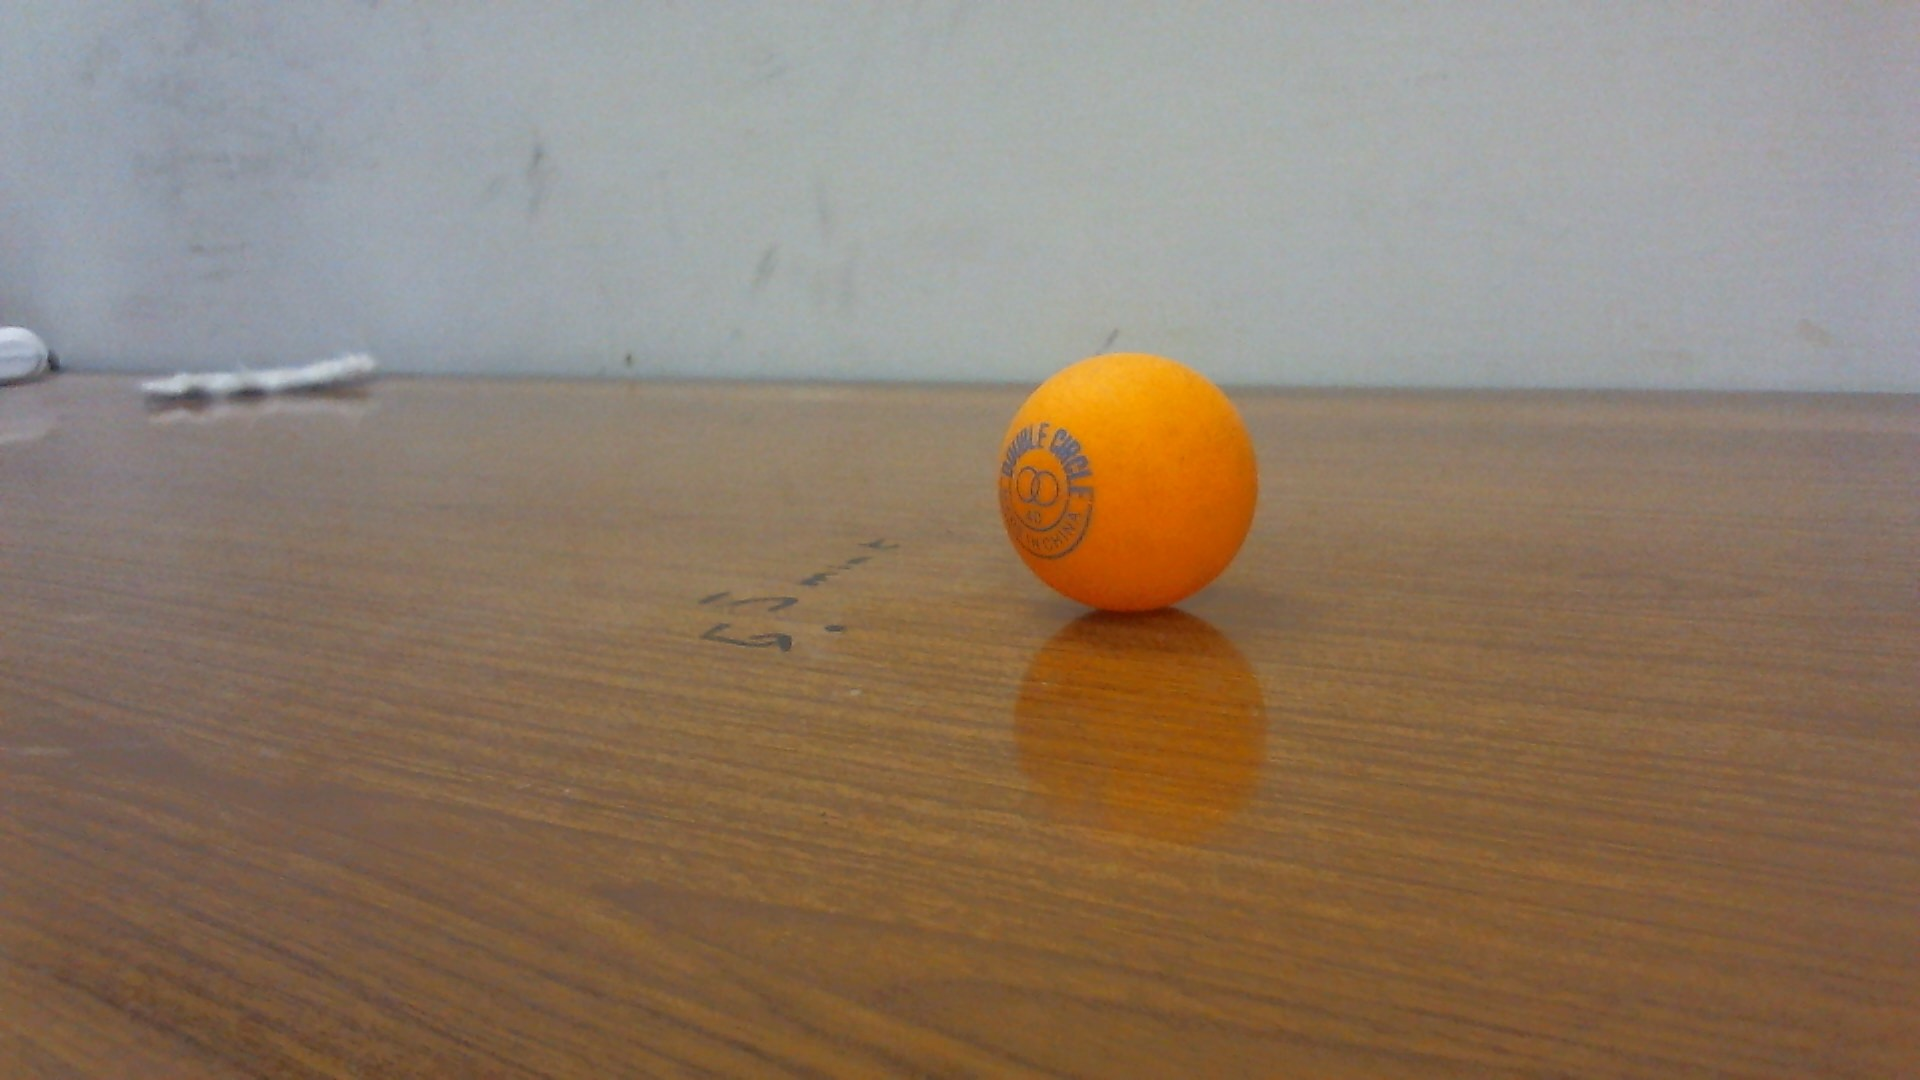ball: (996, 348, 1261, 617)
